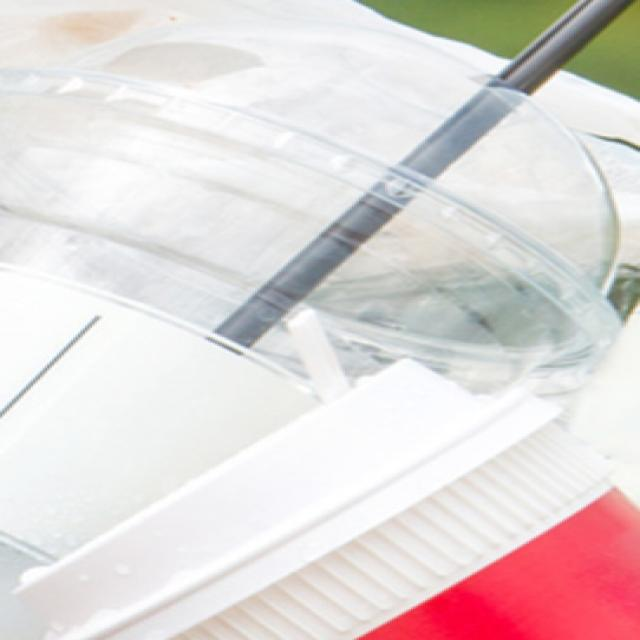plastic cup: (28, 0, 640, 615)
